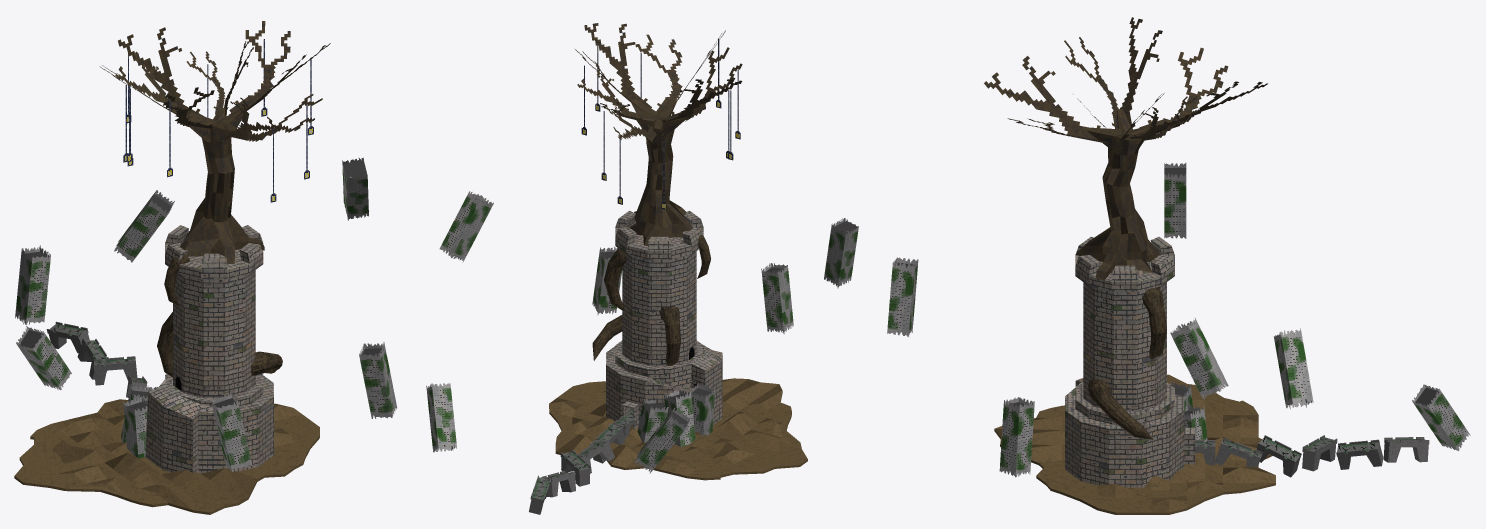
Rendered from Island towerss broken bridge.gltf.
3 views of the same model, side by side, from view 1: azimuth 30°, elevation 25°; view 2: azimuth 150°, elevation 25°; view 3: azimuth 270°, elevation 25° (orthographic). The views are drawn at different scales.
Parts seen in each view (by area): view 1: cylinder (×5), cuboid, Main (×10), cube (×8); view 2: cylinder (×5), cuboid, Main (×9), cube (×8); view 3: cylinder (×4), cuboid, cube (×9), Main (×6).
Part boxes in pixels (x1,y1,x2,y2): cylinder (×5): (145,104,282,473); cuboid: (14,399,319,514); Main (×10): (15,161,396,467); cube (×8): (46,21,322,385); cylinder (×5): (592,99,722,429); cuboid: (549,378,807,480); Main (×9): (427,195,858,457); cube (×8): (529,23,742,514); cylinder (×4): (1065,109,1195,487); cuboid: (994,374,1275,514); cube (×9): (984,17,1429,477); Main (×6): (889,168,1459,453).
Size of the model in its own units: 2.52 by 2.74 by 3.35.
12 materials, 12 textured.
